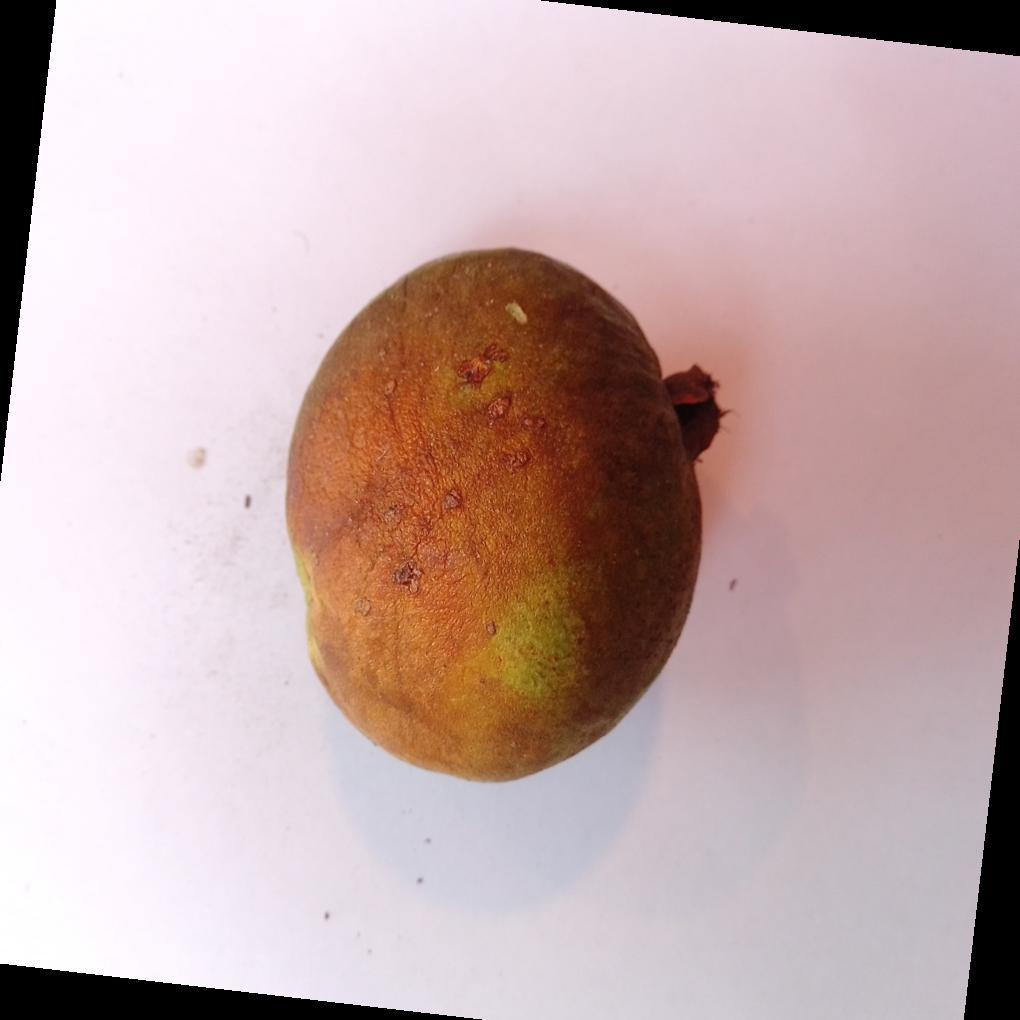FreshOrange: (282, 249, 719, 787)
